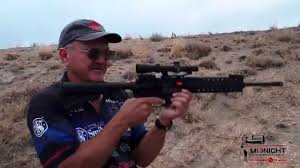Gun: (129, 60, 253, 97)
